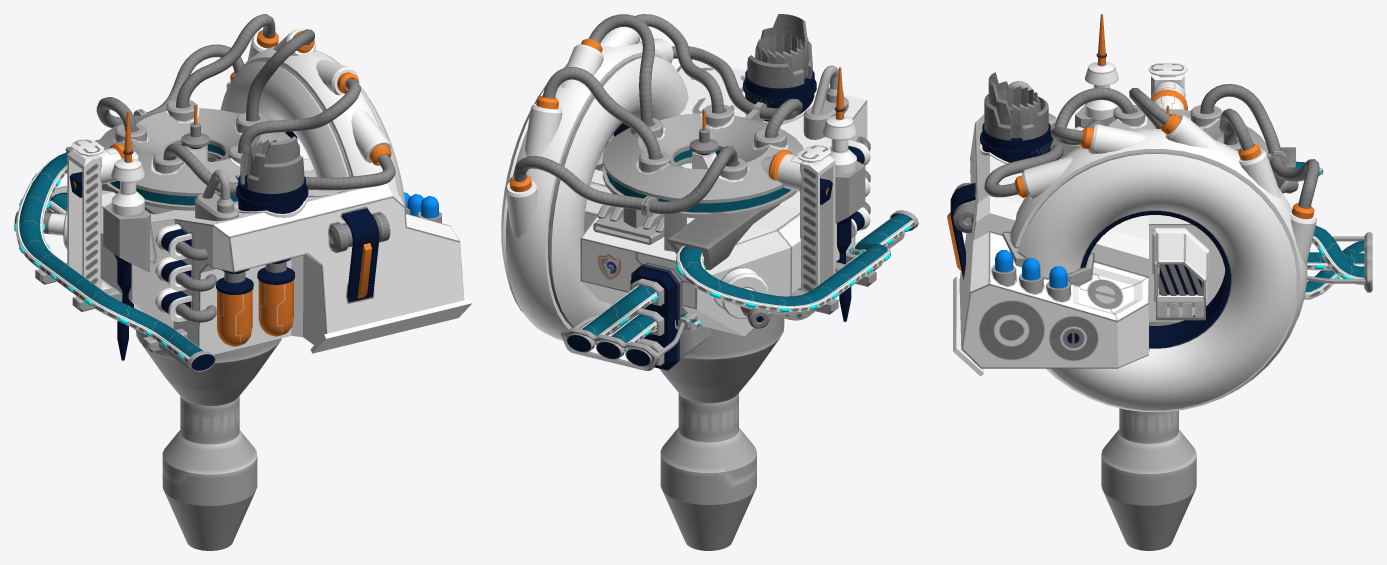
Rendered from Constuctor_Unity.fbx.
3 renders of one model, left to right at view 1: azimuth 30°, elevation 25°; view 2: azimuth 150°, elevation 25°; view 3: azimuth 270°, elevation 25°, orthographic.
Visible parts, largest first — view 1: Cylinder.137; view 2: Cylinder.137; view 3: Cylinder.137.
Part boxes in pixels (x1,y1,x2,y2): Cylinder.137: [14, 14, 472, 550]; Cylinder.137: [501, 14, 918, 550]; Cylinder.137: [947, 14, 1372, 550].
Size of the model in its own units: 2171 by 3231 by 2525.
